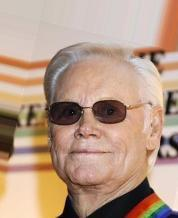face: (55, 100, 120, 160)
